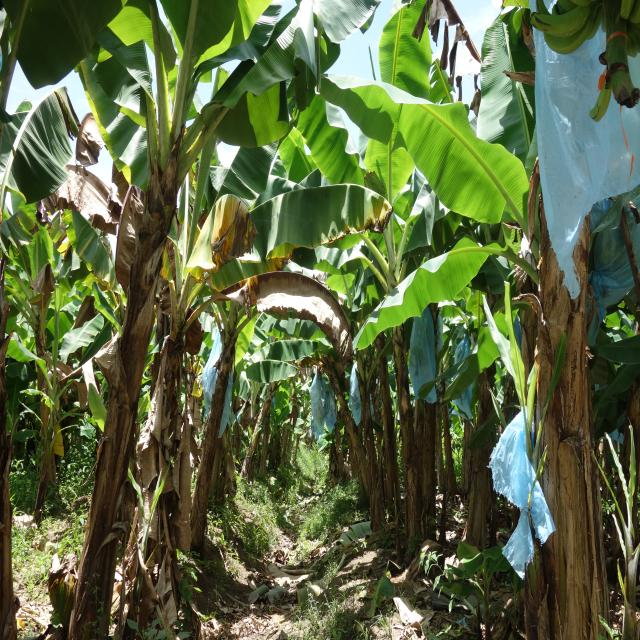Banana-plant: (67, 106, 227, 640), (512, 92, 608, 640), (189, 297, 263, 557), (374, 229, 425, 572)
